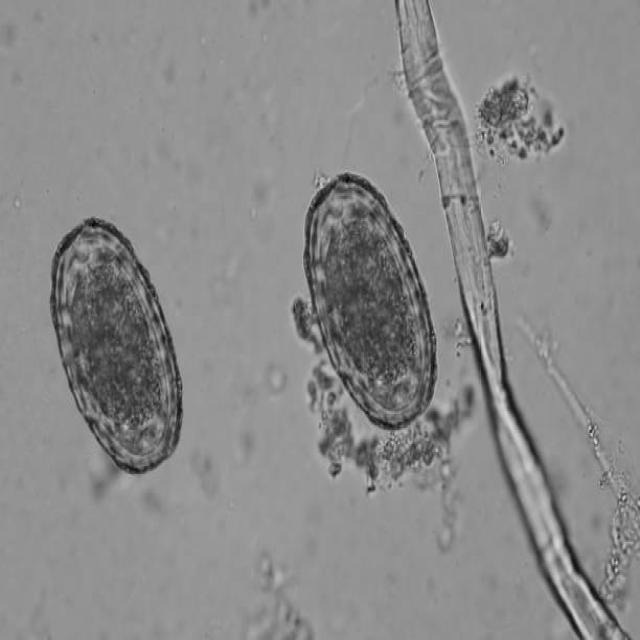Ascaris Lumbricoides: (298, 160, 440, 445), (46, 213, 182, 478)
